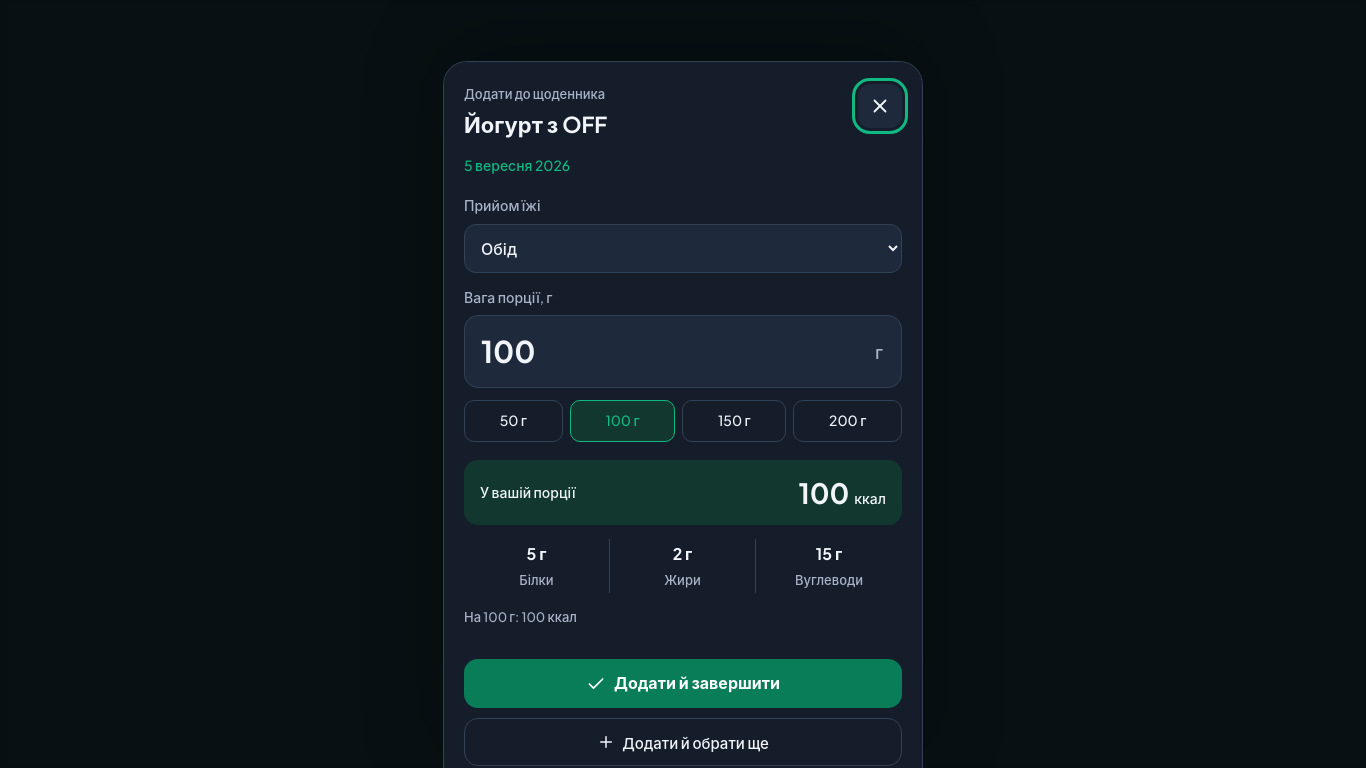
Scenario: FoodPortionDialog › uses explicit per-100g nutrition instead of package weight for an external product
The image size is (1366, 768).
expect the text "На 100 г: 100 ккал" is shown: met, box [464,609,577,625]
expect the text "100" is shown: met, box [798,475,849,510]
Replace the text in the field labelled "Вага порції, г" with "200" at x=670, y=352, box [465,316,875,387]
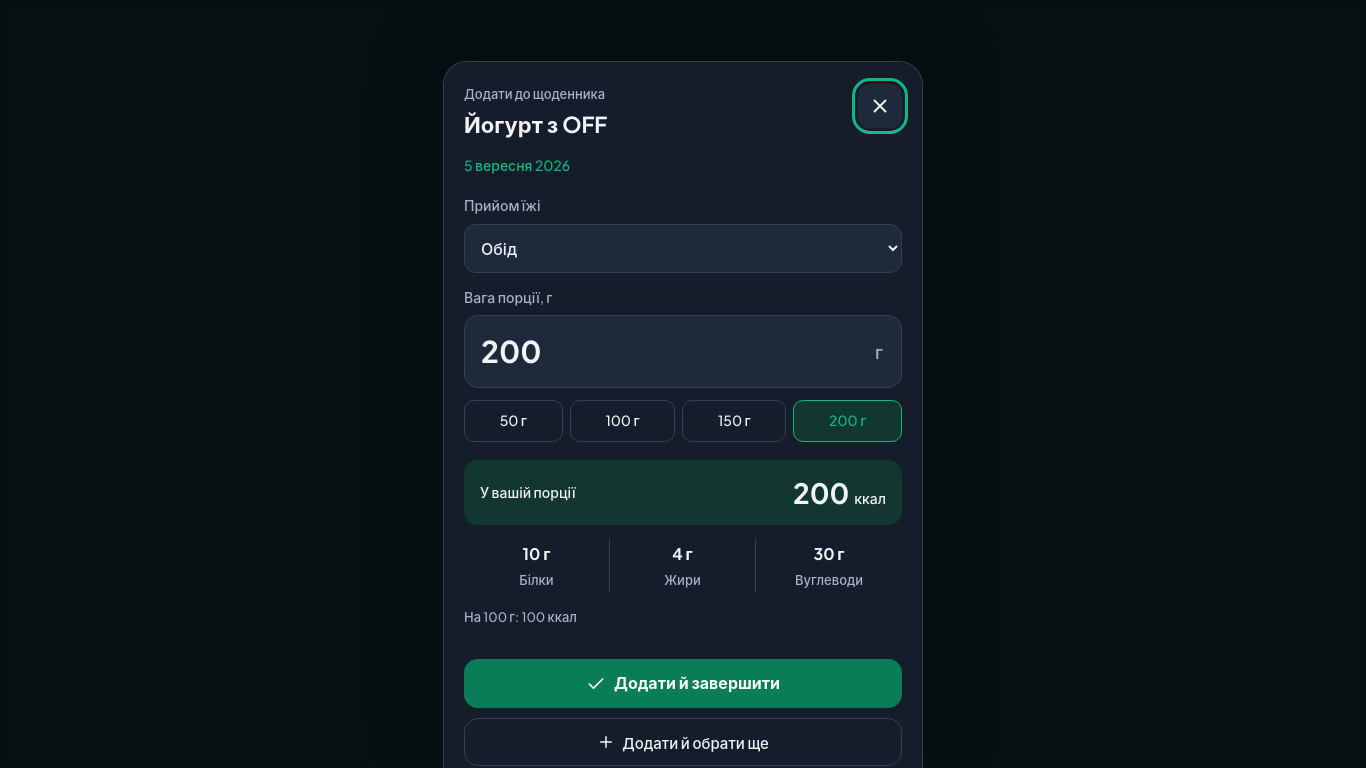
expect the text "200" is shown: met, box [793,475,849,510]
expect the text "10 г" is shown: met, box [523,543,550,564]
